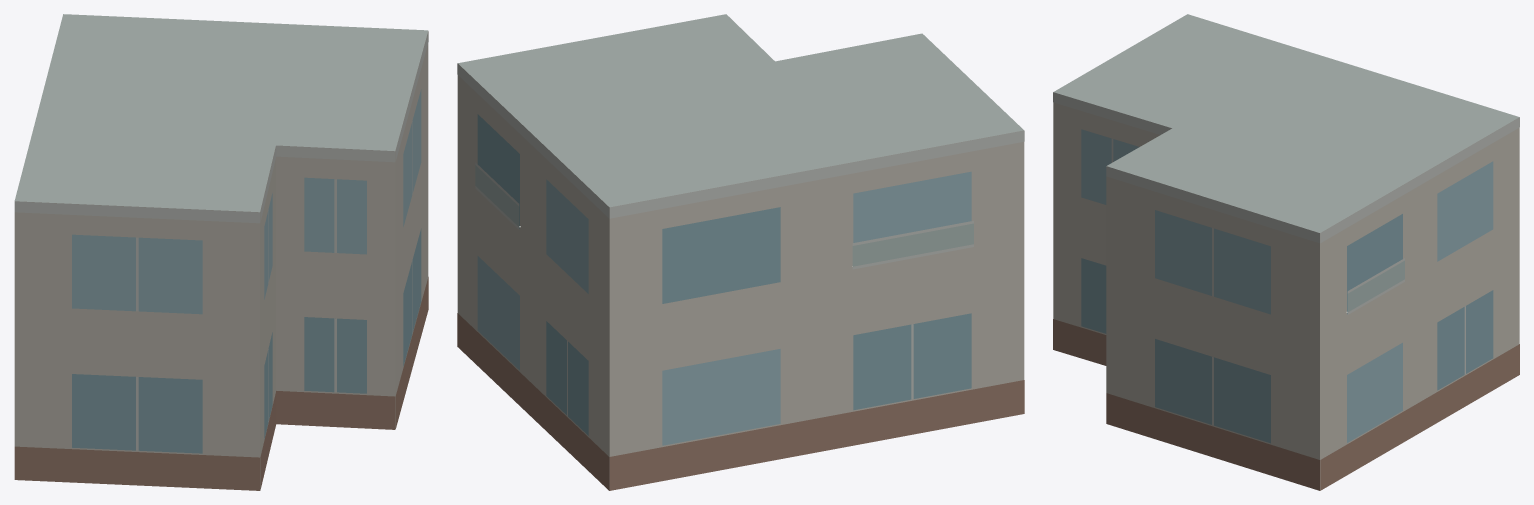
Rendered from survey-upis-32579894.glb.
3 renders of one model, left to right at view 1: azimuth 30°, elevation 25°; view 2: azimuth 150°, elevation 25°; view 3: azimuth 270°, elevation 25°, orthographic. The views are drawn at different scales.
Visible parts, largest first — view 1: survey-upis-32579894.tmp; view 2: survey-upis-32579894.tmp; view 3: survey-upis-32579894.tmp.
Boxes of the visible parts, x1=… form: survey-upis-32579894.tmp: x1=14, y1=14, x2=428, y2=490; survey-upis-32579894.tmp: x1=457, y1=14, x2=1024, y2=490; survey-upis-32579894.tmp: x1=1053, y1=14, x2=1519, y2=490.
Size of the model in its own units: 11.13 by 6.1 by 10.02.
